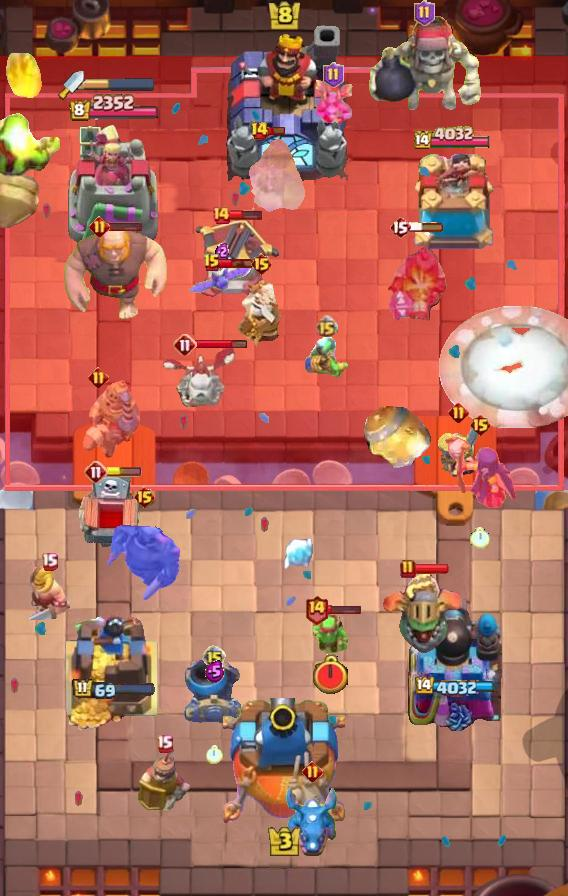arrows: (438, 427, 478, 476)
axe: (442, 435, 518, 509)
balloon: (61, 227, 167, 323)
bar: (67, 122, 161, 256)
barbarian: (189, 265, 255, 299)
barbarian-hut: (235, 135, 315, 215)
bat: (276, 535, 318, 573)
dirt: (358, 395, 434, 475)
earthquake: (138, 744, 190, 812)
electro-giant: (365, 14, 483, 128)
electro-spirit: (205, 660, 224, 684), (215, 242, 229, 262)
elixir: (311, 654, 350, 696), (470, 527, 490, 549), (206, 745, 223, 763)
elixir-collector: (235, 274, 287, 354)
elixir-golem-mid: (76, 472, 146, 558)
emote: (195, 339, 248, 350), (107, 220, 143, 232), (409, 221, 445, 233), (218, 257, 254, 269), (414, 563, 450, 575), (230, 209, 263, 221), (327, 605, 362, 616), (106, 467, 142, 477), (266, 124, 286, 135)
giant-snowball: (301, 335, 351, 379), (310, 614, 350, 656)
goblin-giant: (29, 564, 70, 620)
golemite: (106, 506, 182, 602)
graveyard: (283, 784, 341, 858)
inferno-dragon: (384, 223, 450, 325)
king-tower: (219, 21, 349, 181), (223, 698, 345, 826)
king-tower-bar: (84, 77, 156, 91)
lava-pup: (192, 219, 280, 301)
mini-pekka: (159, 343, 237, 411)
musketeer: (184, 659, 244, 723)
night-witch: (378, 572, 464, 654)
queen-tower: (62, 613, 165, 731), (405, 154, 501, 256)
ram-rider: (78, 378, 144, 460)
royal-delivery: (312, 77, 354, 125)
selected: (68, 94, 160, 123), (414, 126, 494, 152), (72, 678, 156, 701), (414, 677, 495, 699)
text: (304, 595, 328, 626), (173, 333, 197, 357), (84, 460, 108, 484), (202, 645, 226, 669), (251, 252, 274, 276), (468, 413, 491, 437), (132, 485, 155, 509), (414, 0, 435, 26), (323, 62, 344, 88), (315, 314, 338, 337), (389, 215, 411, 239), (89, 215, 110, 237), (87, 367, 108, 389), (447, 401, 469, 422), (302, 761, 323, 783), (211, 205, 231, 225), (250, 121, 269, 141), (203, 253, 221, 273), (41, 553, 59, 571), (400, 559, 416, 579), (155, 735, 172, 753)
tower-bar: (404, 593, 502, 731)
valkyrie: (3, 53, 43, 101)
wall-breaker: (438, 306, 568, 428)
x-bow: (0, 89, 64, 233)
